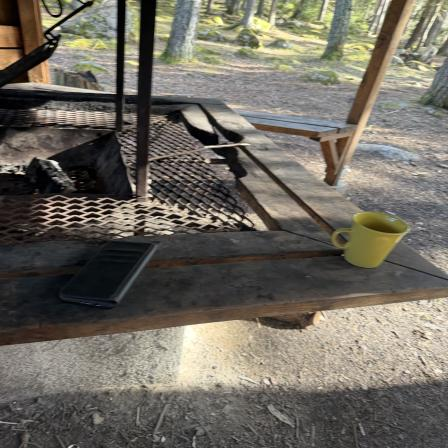phone: (62, 238, 160, 311)
yellow_cup: (332, 211, 412, 269)
